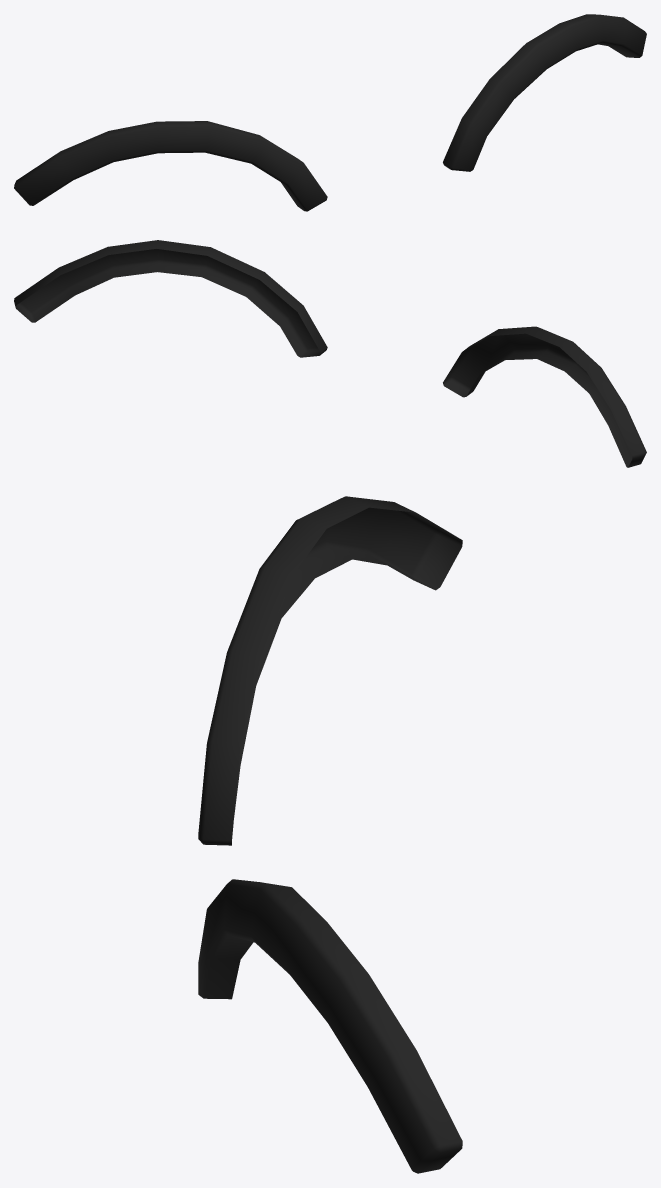
The model's file is Eyebrow_011.glb.
The picture shows the model from 3 angles, top to bottom: view 1: azimuth 30°, elevation 25°; view 2: azimuth 150°, elevation 25°; view 3: azimuth 270°, elevation 25°; orthographic projection. The views are drawn at different scales.
Visible parts, largest first — view 1: Eyebrow_011; view 2: Eyebrow_011; view 3: Eyebrow_011.
Part boxes in pixels (<box>): Eyebrow_011: <box>14,14,646,211</box>; Eyebrow_011: <box>14,240,646,467</box>; Eyebrow_011: <box>198,496,462,1173</box>.
Bounding box in the file's own units: 0.2591 × 0.0392 × 0.047.
Materials: 1 (1 with a texture image).
